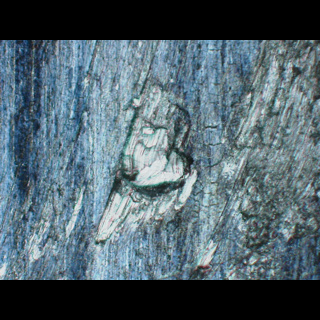d: (87, 83, 207, 249)
